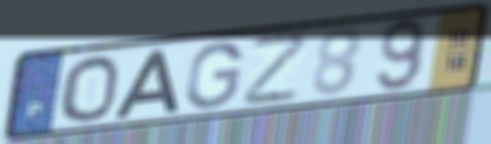8: (310, 24, 367, 100)
9: (372, 15, 429, 96)
A: (110, 47, 181, 121)
G: (182, 40, 246, 111)
O: (57, 54, 121, 124)
Z: (241, 29, 314, 109)
